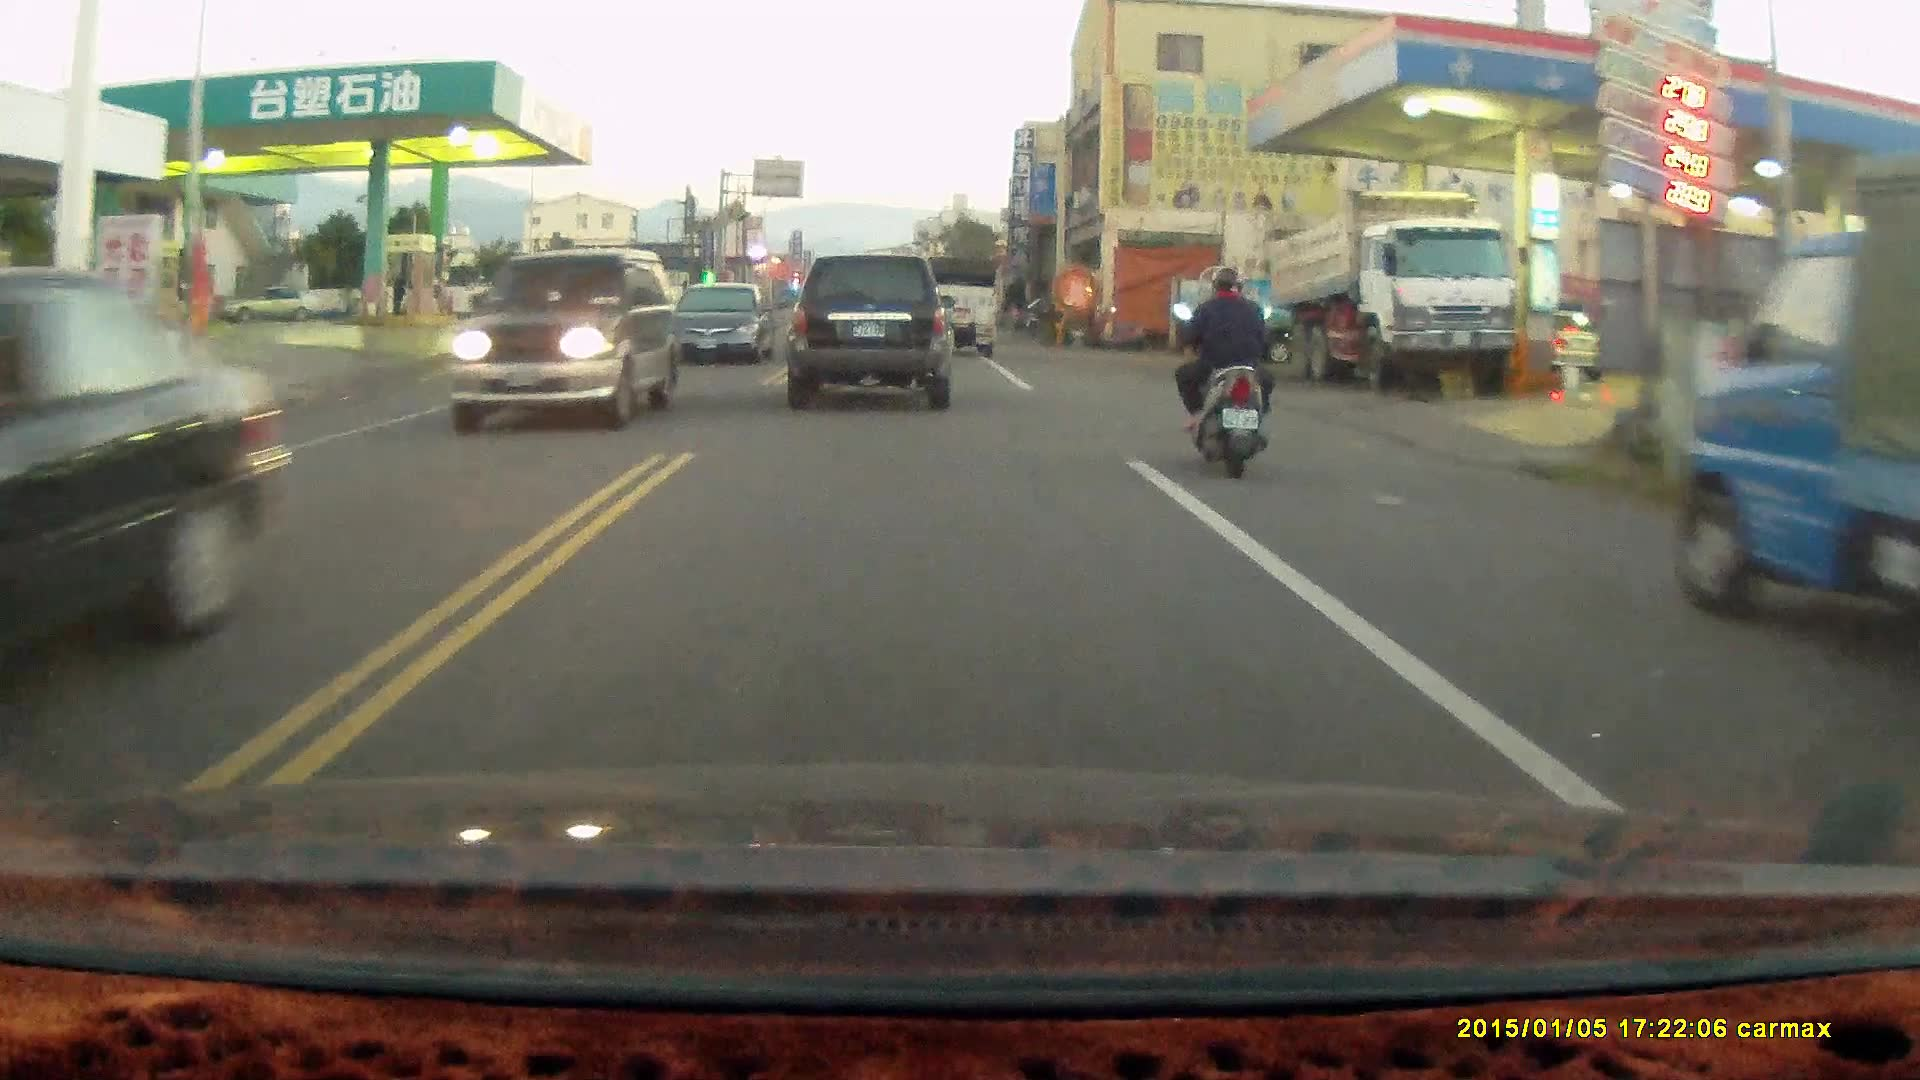rider: (1170, 265, 1277, 480)
vehicle: (1666, 161, 1920, 669), (1, 269, 287, 685), (1261, 188, 1520, 396), (449, 243, 673, 431), (790, 255, 954, 411), (907, 255, 1000, 356), (671, 282, 780, 367)
